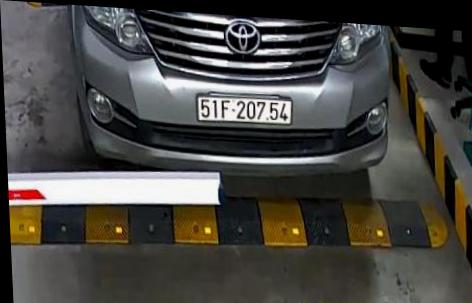License_Plate: (194, 90, 298, 129)
